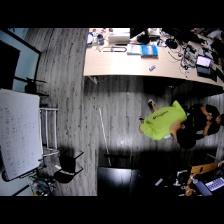normal: (141, 98, 192, 147), (182, 103, 224, 134)
